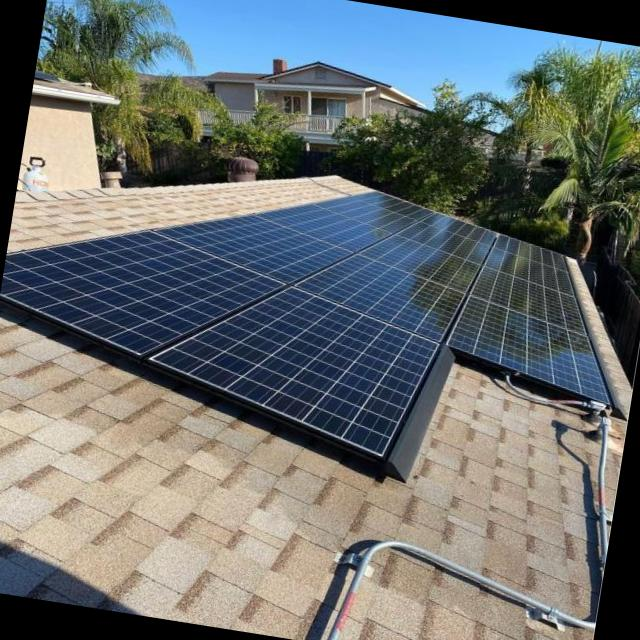no faulty: (153, 287, 441, 457), (4, 233, 288, 354), (449, 295, 609, 403), (299, 252, 468, 339), (158, 217, 354, 284), (356, 235, 481, 294), (470, 268, 581, 333), (257, 204, 392, 250), (484, 249, 573, 294), (310, 197, 417, 234), (396, 223, 491, 264), (495, 235, 566, 272), (351, 191, 434, 220), (425, 215, 497, 245)
